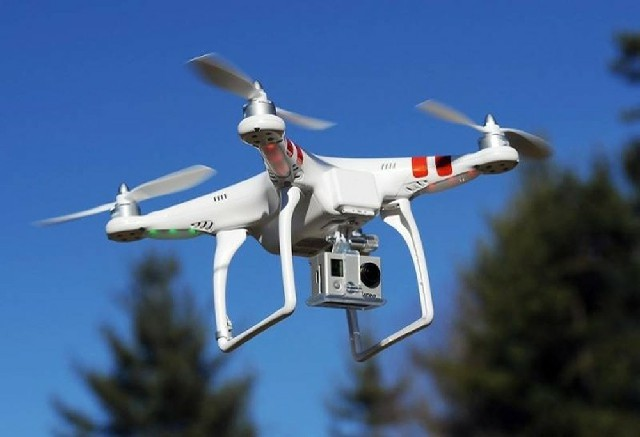maybay_khongnguoilai: (50, 57, 546, 355)
